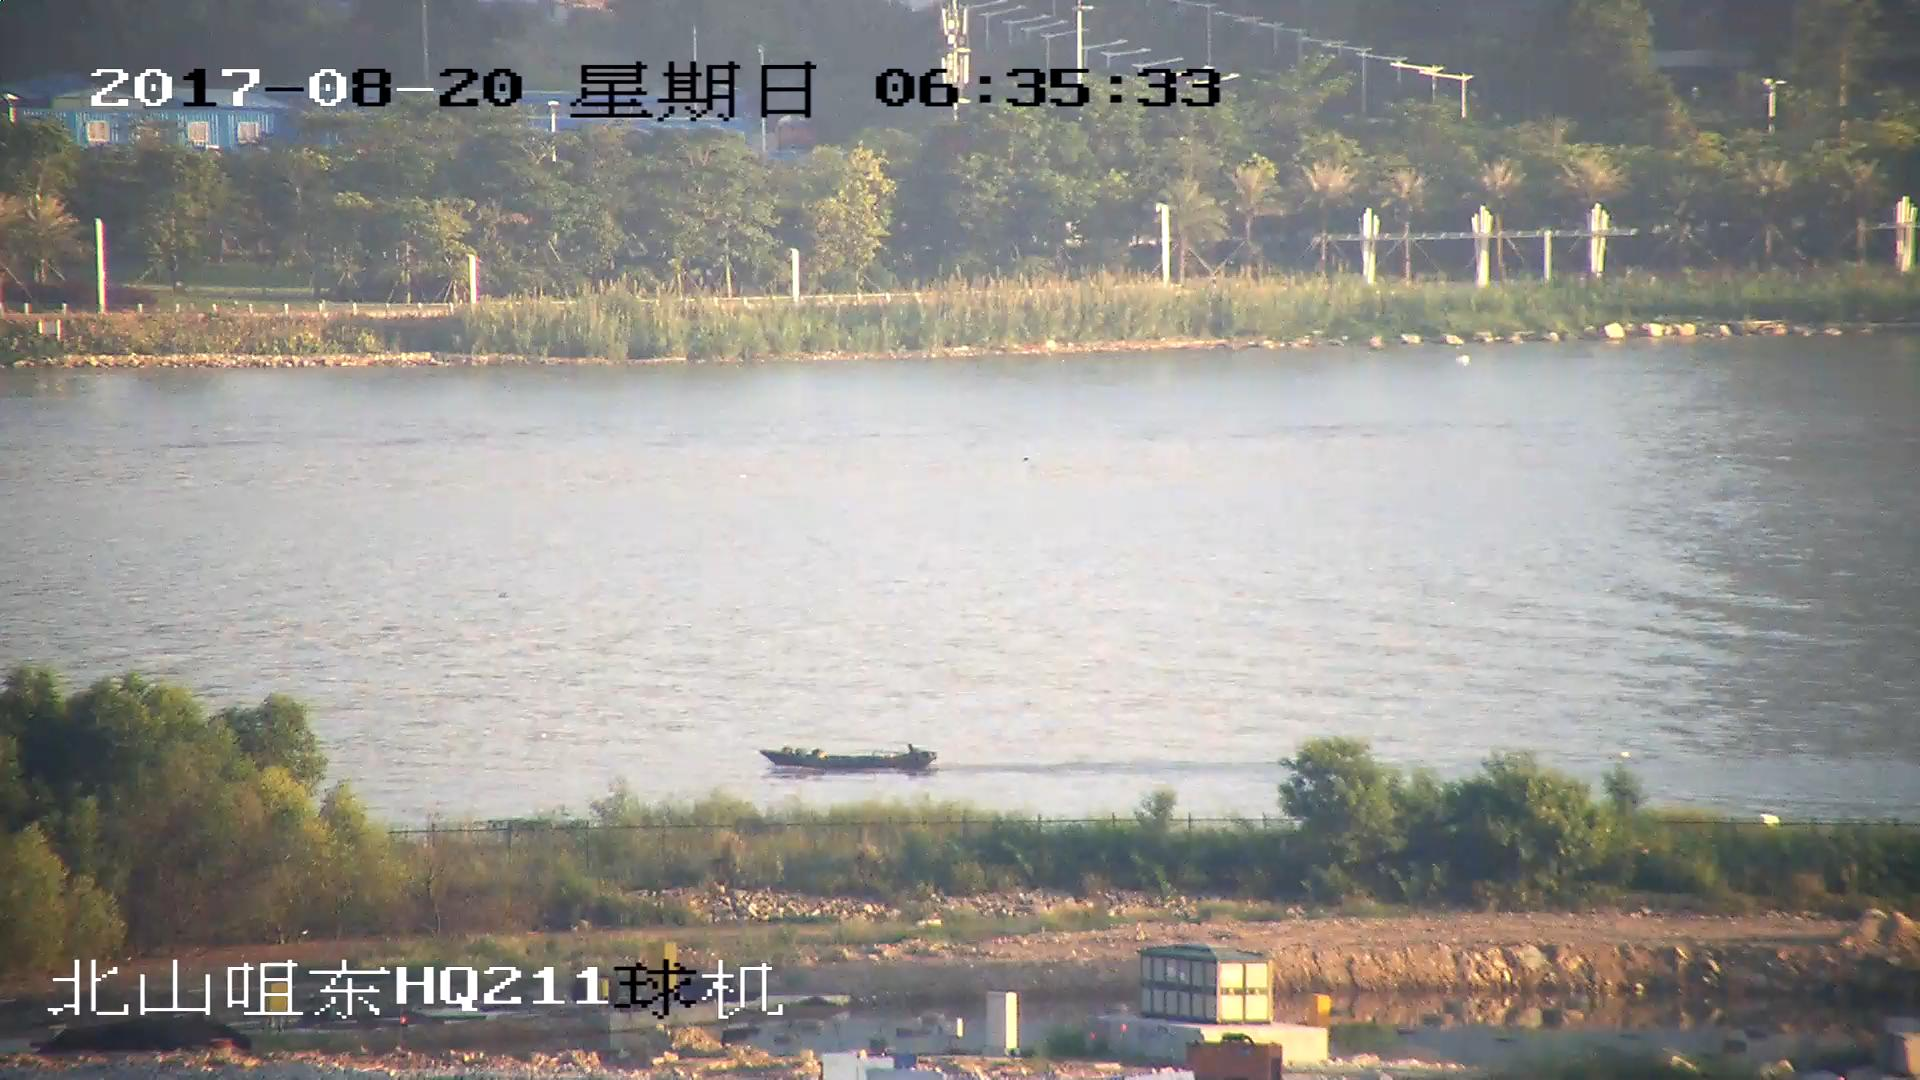fishing boat: (761, 735, 938, 773)
